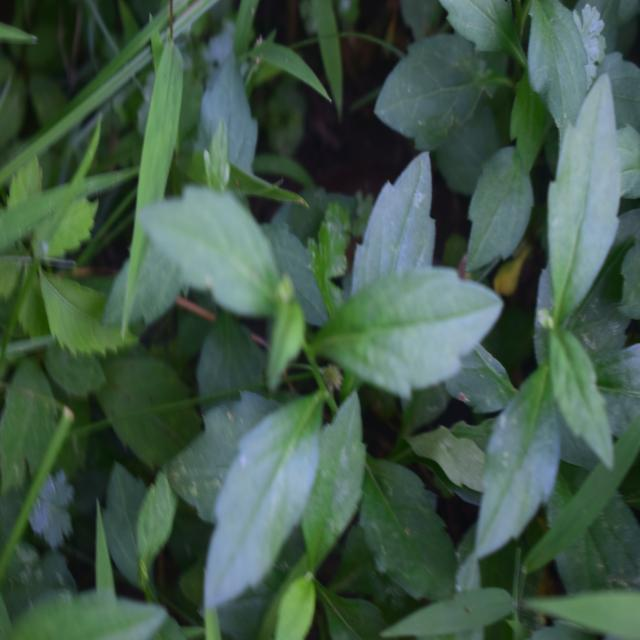Indian aster: (152, 188, 485, 559)
